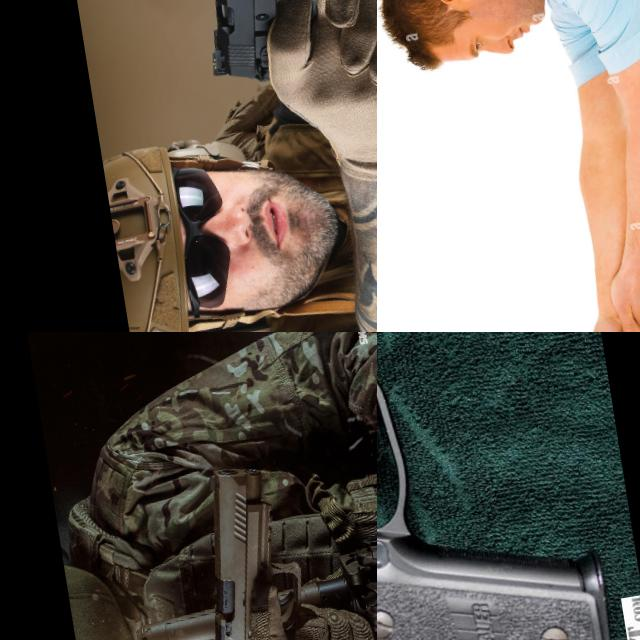handgun: (377, 332, 634, 640), (177, 451, 321, 640), (179, 0, 336, 112)
